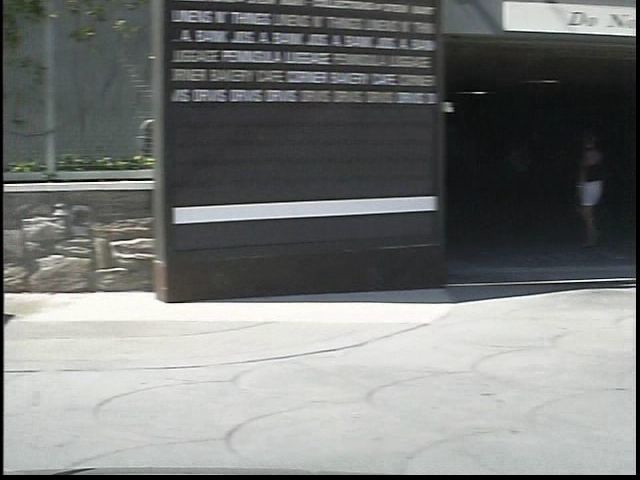person: (545, 125, 600, 254)
